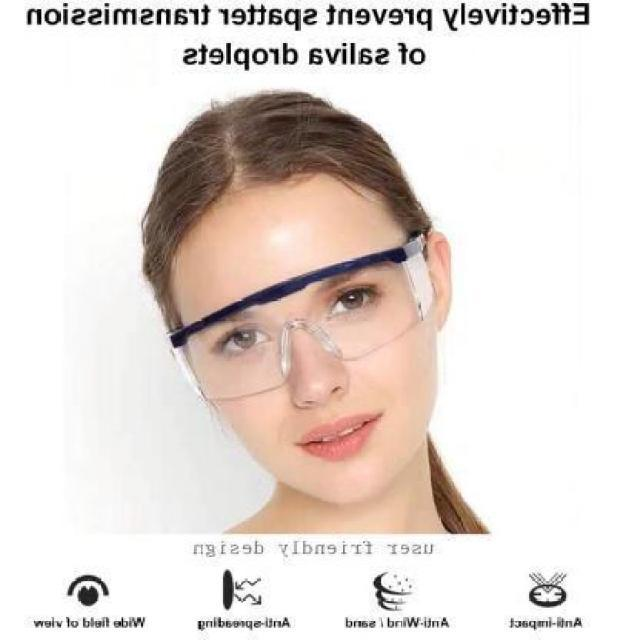Goggles: (148, 228, 464, 411)
